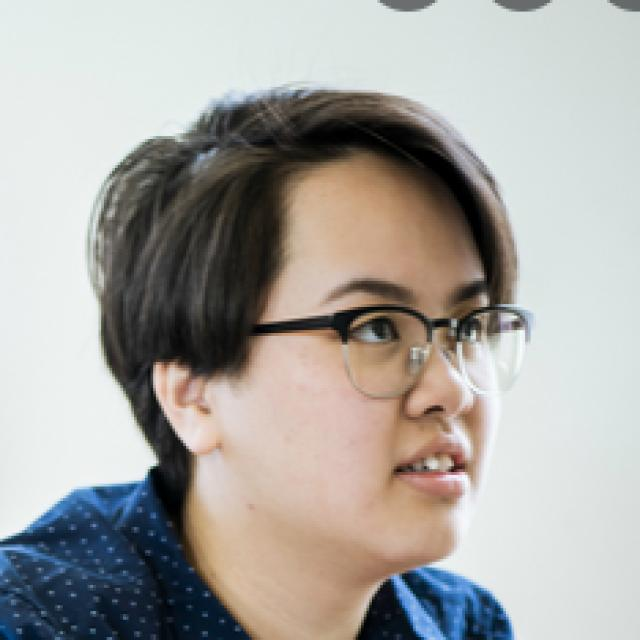Attentive: (241, 155, 511, 568)
